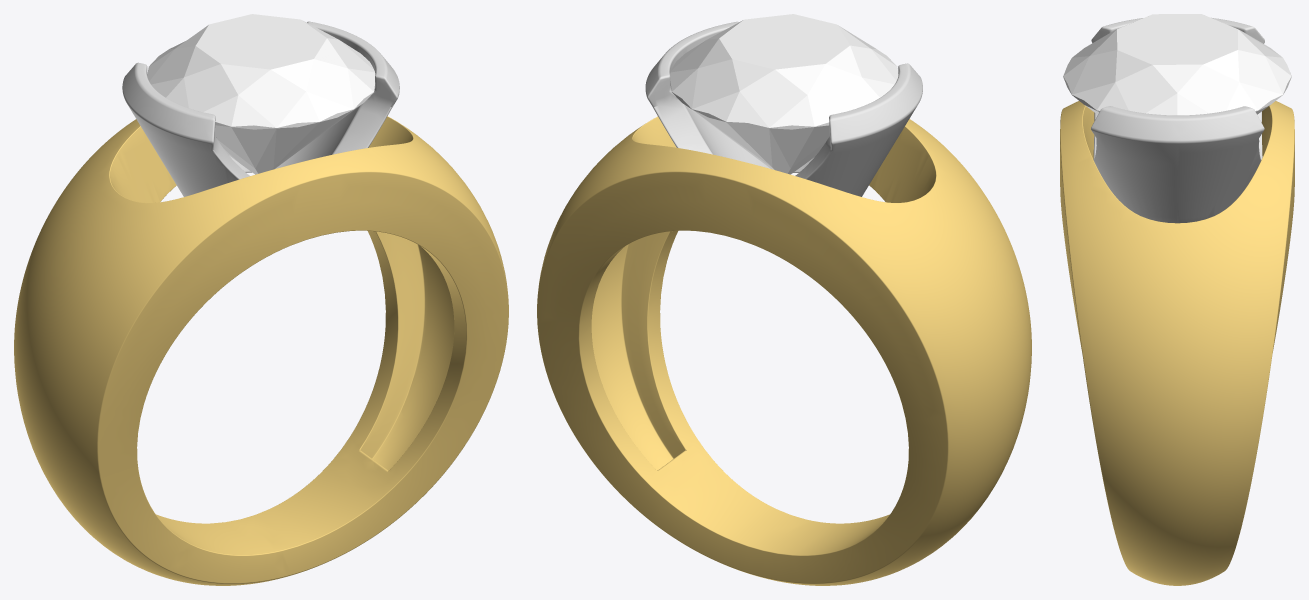
File: joyce_webgi.glb
The picture shows the model from 3 angles, left to right: view 1: azimuth 30°, elevation 25°; view 2: azimuth 150°, elevation 25°; view 3: azimuth 270°, elevation 25°; orthographic projection. The views are drawn at different scales.
Parts seen in each view (by area): view 1: joyceyg, DIA(WHITE), joycept; view 2: joyceyg, DIA(WHITE), joycept; view 3: joyceyg, DIA(WHITE), joycept.
Boxes of the visible parts, bbox=[...] form: joyceyg: bbox=[14, 116, 508, 585]; DIA(WHITE): bbox=[147, 14, 375, 174]; joycept: bbox=[122, 21, 399, 196]; joyceyg: bbox=[537, 116, 1031, 585]; DIA(WHITE): bbox=[670, 14, 898, 174]; joycept: bbox=[645, 21, 922, 196]; joyceyg: bbox=[1060, 101, 1294, 585]; DIA(WHITE): bbox=[1063, 14, 1291, 115]; joycept: bbox=[1091, 17, 1264, 223].
Size of the model in its own units: 2.53 by 2.87 by 1.17.
